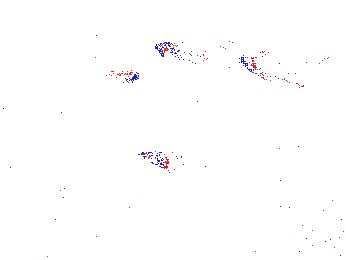X-ray fish: (101, 190, 154, 232)
glassfish: (138, 147, 262, 183)
red belly glassfish: (71, 52, 140, 86)
redtail glassfish: (151, 38, 267, 67), (261, 60, 331, 82)
